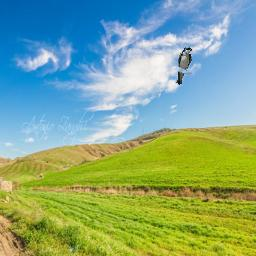Swallow: (176, 47, 192, 85)
